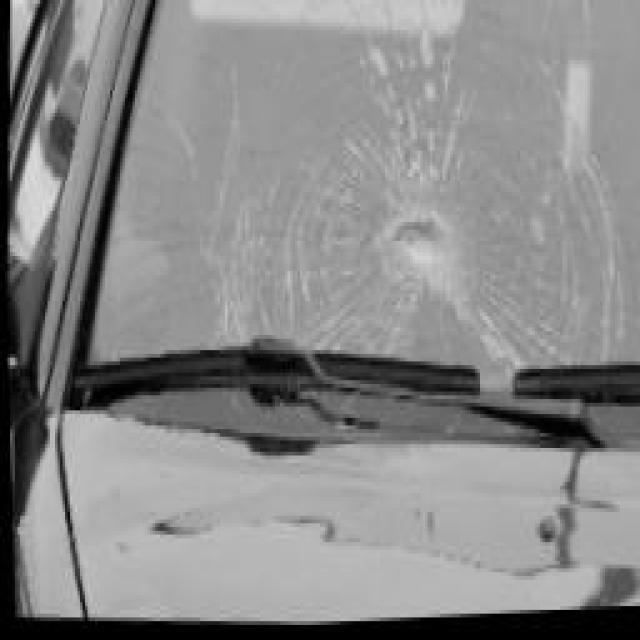Windshield: (76, 0, 640, 450)
